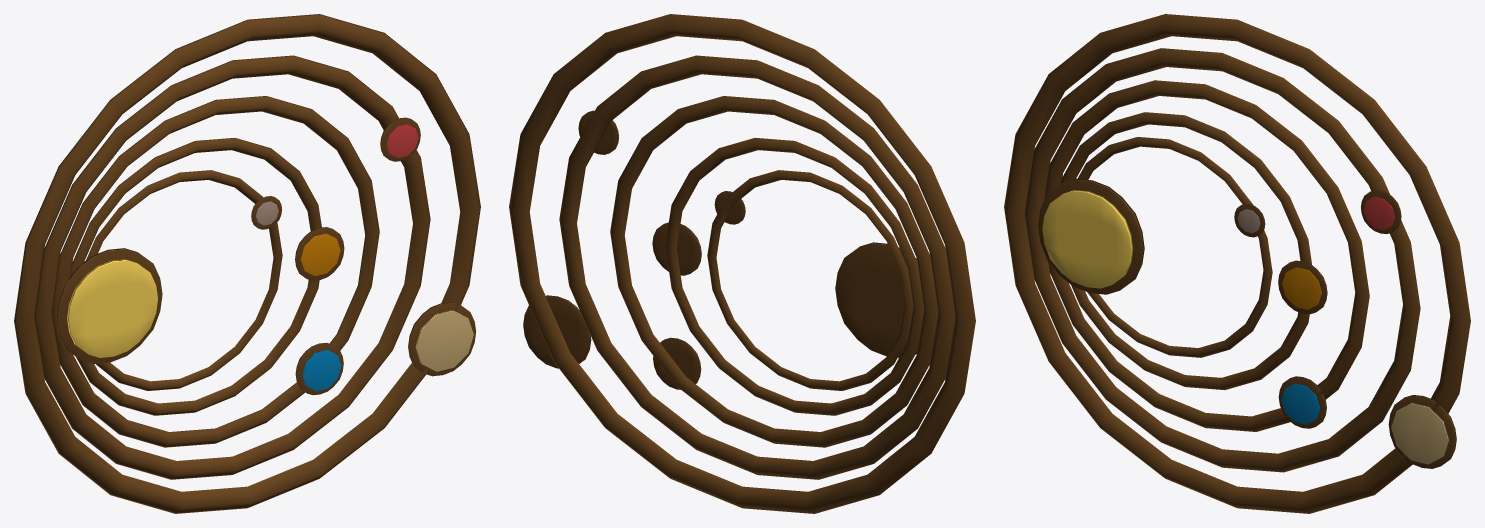
File: Escultura.fbx
The picture shows the model from 3 angles, left to right: view 1: azimuth 30°, elevation 25°; view 2: azimuth 150°, elevation 25°; view 3: azimuth 330°, elevation 25°; orthographic projection.
Parts seen in each view (by area): view 1: Escultura; view 2: Escultura; view 3: Escultura.
Part boxes in pixels (x1,y1,x2,y2): Escultura: [14, 14, 480, 513]; Escultura: [509, 14, 975, 513]; Escultura: [1004, 14, 1470, 513].
Bounding box in the file's own units: 1.8 × 1.8 × 0.1003.
